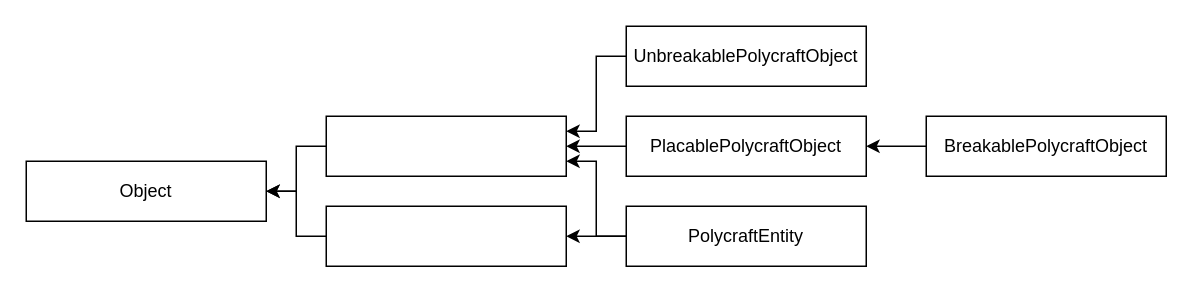
The diagram is 1193 pixels wide and 305 high, and some of its shapes have lost their labels. The centre of each missing label's shape, as x and y in pixels:
Entity: pixel 445 235
PolycraftObject: pixel 445 145
